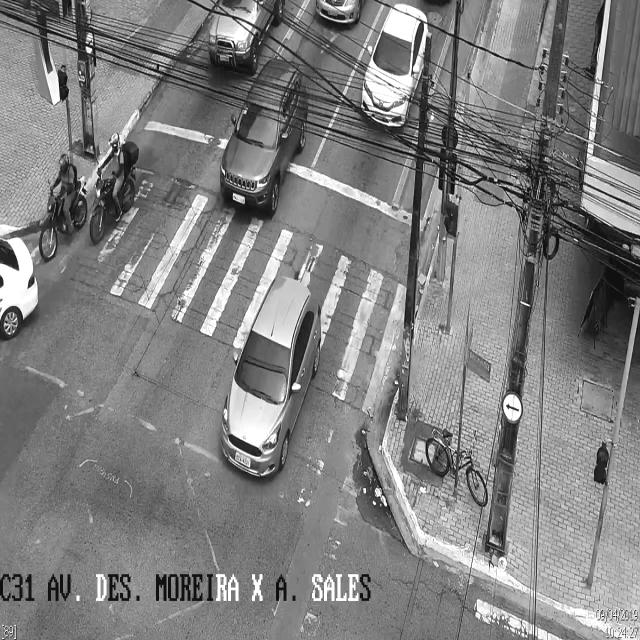Car: (220, 275, 320, 481), (220, 58, 308, 218), (360, 3, 430, 128), (0, 211, 42, 350), (208, 2, 286, 68)
Motorcycle: (88, 134, 140, 243), (38, 153, 86, 260)
